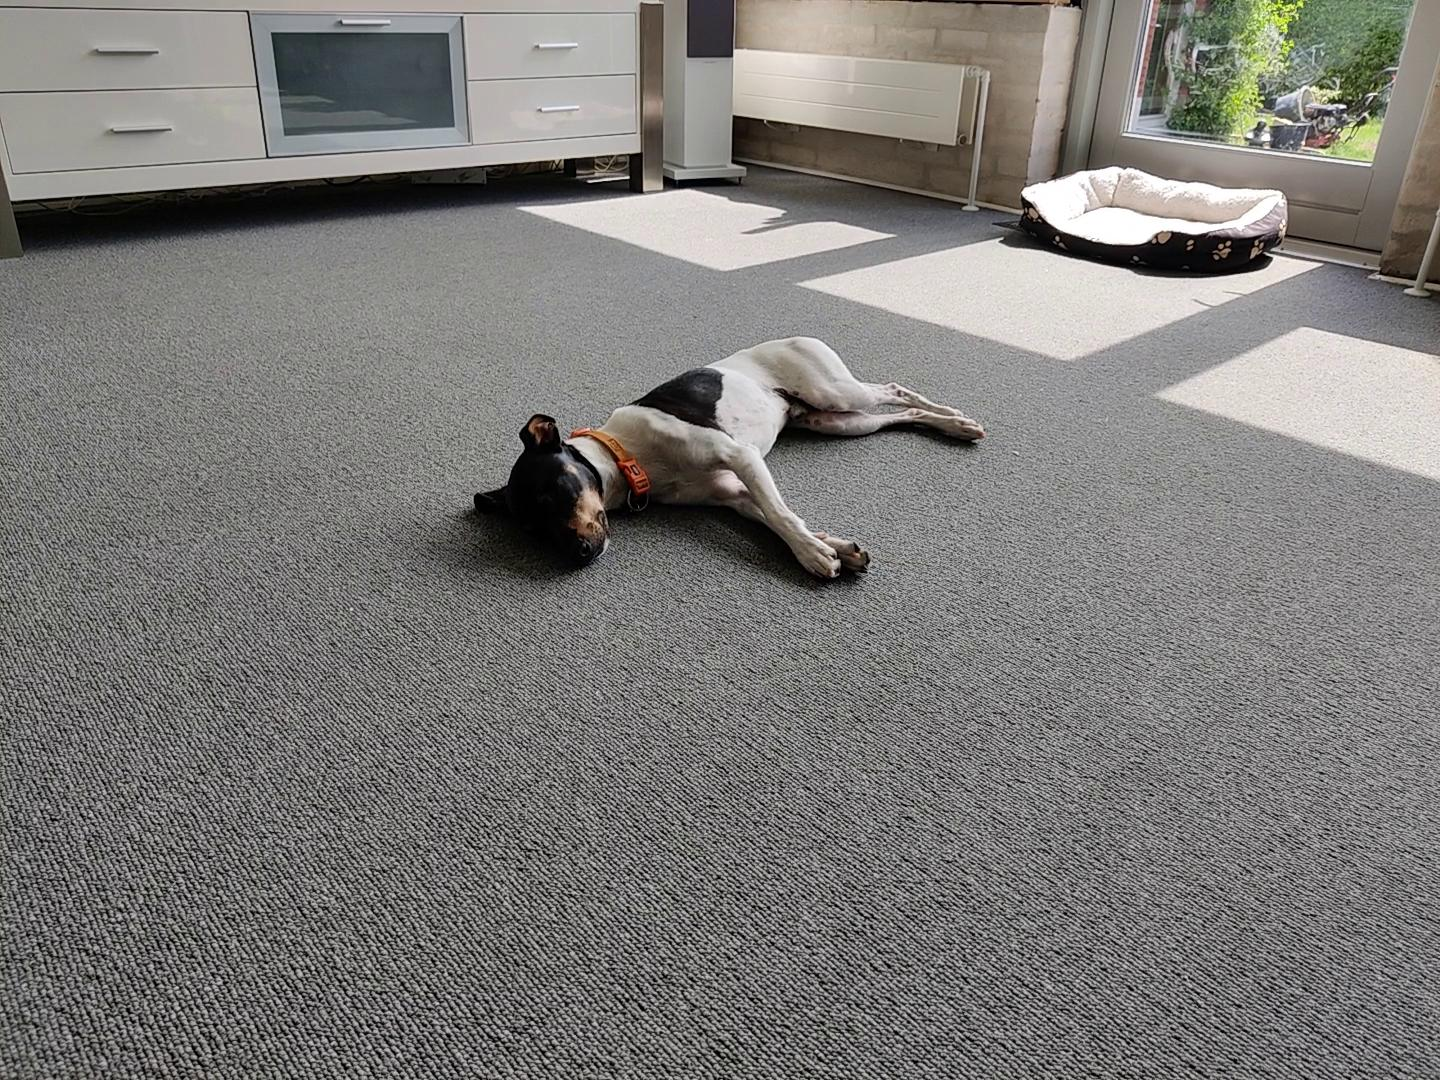Dog: (463, 331, 986, 590)
